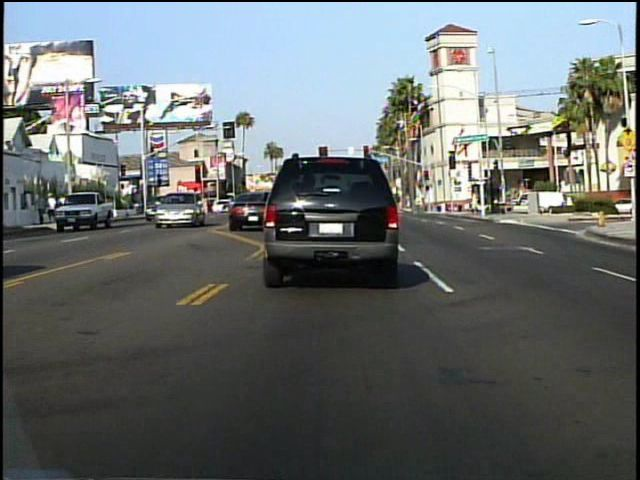person: (168, 191, 184, 222)
